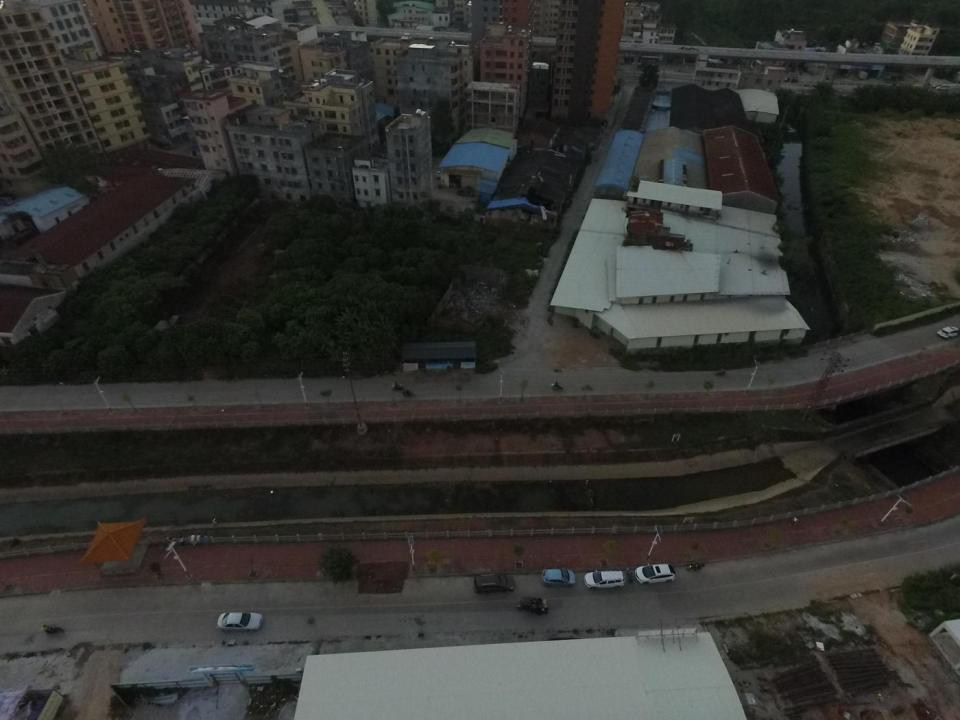car: (216, 612, 264, 634), (634, 562, 677, 585), (473, 572, 516, 594), (583, 569, 625, 590), (542, 567, 575, 588), (936, 325, 959, 340)
